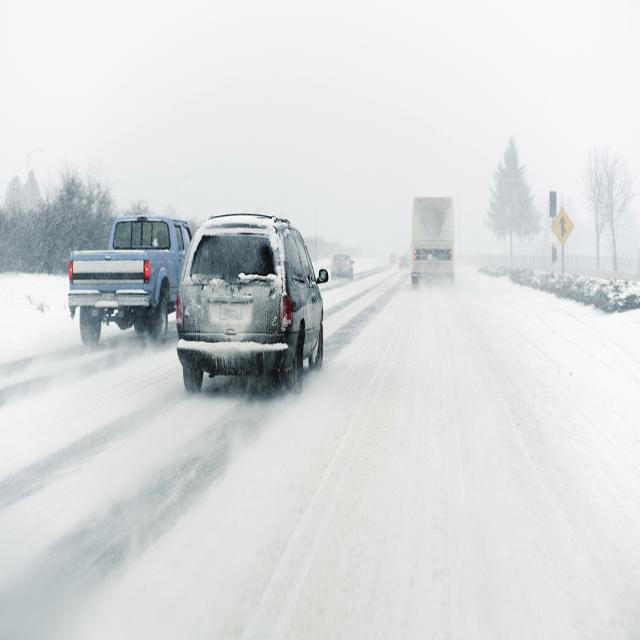bus: (68, 214, 194, 345), (412, 188, 456, 293)
car: (175, 213, 329, 397), (331, 251, 353, 276), (398, 256, 410, 271), (388, 254, 397, 265)
